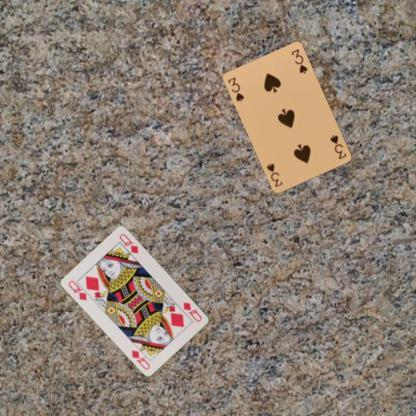3s: (226, 74, 246, 104), (327, 132, 348, 160)
Qd: (66, 278, 93, 302), (181, 300, 203, 323)
